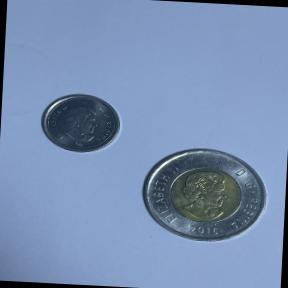coin: (130, 138, 280, 255), (32, 85, 128, 160)
